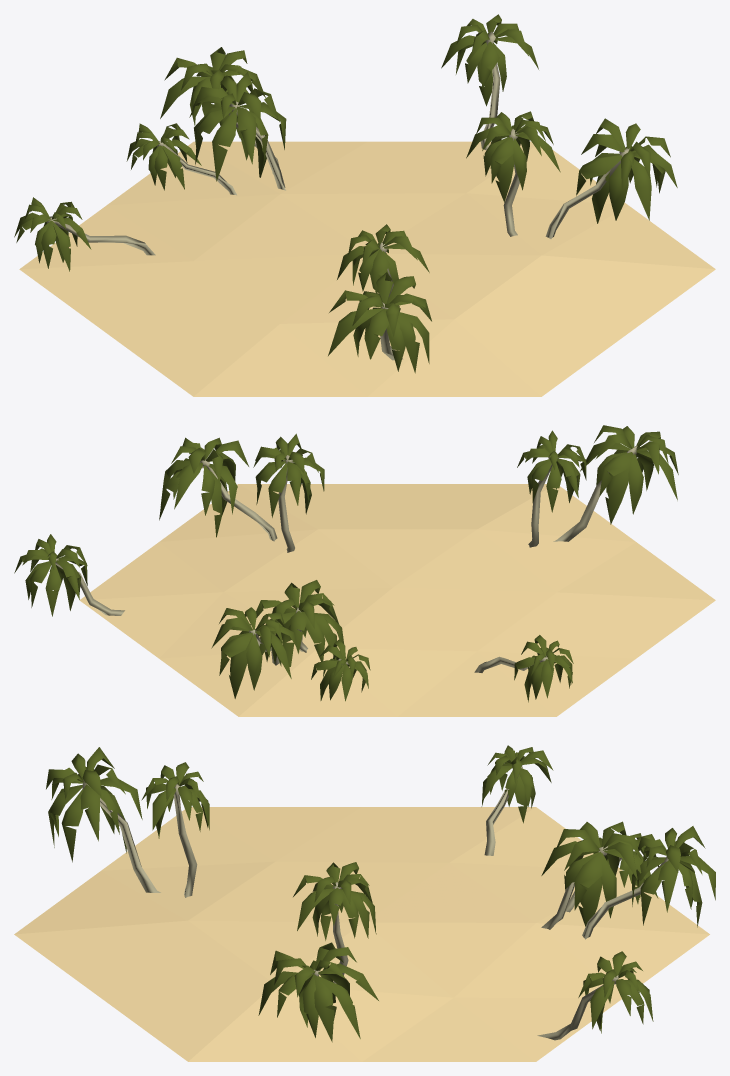
Rendered from beach.glb.
The picture shows the model from 3 angles, top to bottom: view 1: azimuth 30°, elevation 25°; view 2: azimuth 150°, elevation 25°; view 3: azimuth 270°, elevation 25°; orthographic projection. The views are drawn at different scales.
Visible parts, largest first — view 1: Beach Terrain, Palm Trees; view 2: Beach Terrain, Palm Trees; view 3: Beach Terrain, Palm Trees.
Boxes of the visible parts, left/top/right/bottom form: Beach Terrain: left=19, top=141, right=715, bottom=396; Palm Trees: left=14, top=14, right=677, bottom=373; Beach Terrain: left=80, top=484, right=715, bottom=716; Palm Trees: left=14, top=425, right=678, bottom=702; Beach Terrain: left=14, top=807, right=709, bottom=1061; Palm Trees: left=46, top=745, right=715, bottom=1042.
Bounding box in the file's own units: 1.85 × 0.4259 × 2.02.
